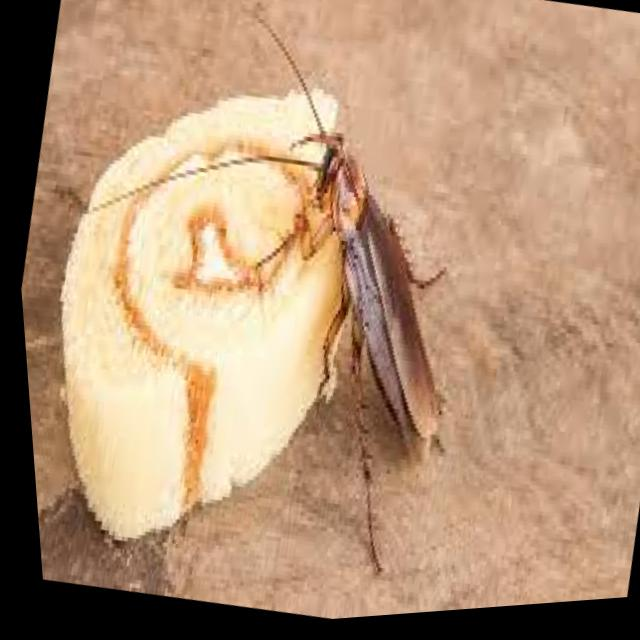Cockroach: (0, 0, 533, 621)
